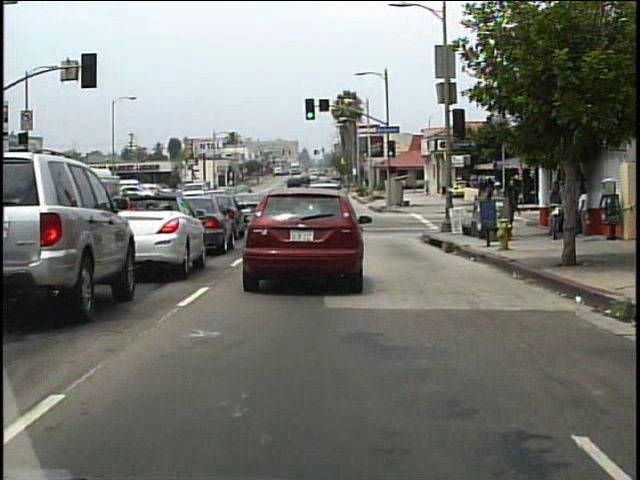person: (506, 181, 524, 237), (548, 182, 565, 231), (489, 180, 507, 226), (577, 186, 592, 239), (578, 183, 579, 240)
